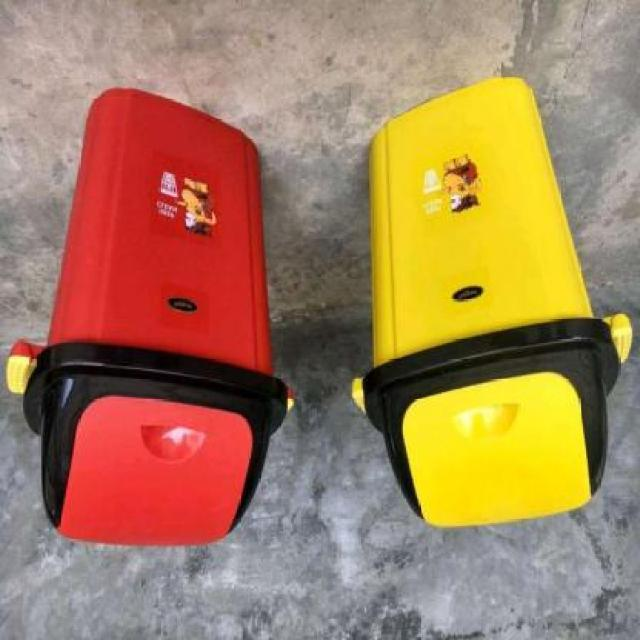garbage container: (2, 79, 311, 555), (347, 50, 640, 539)
